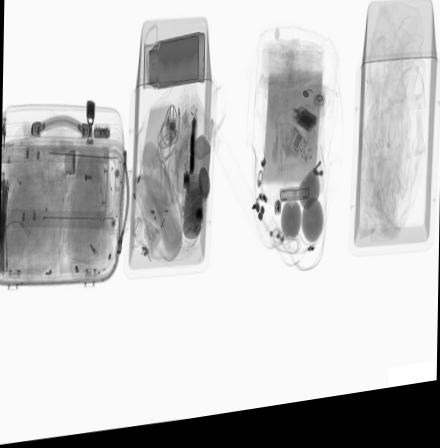Lighter: (180, 182, 187, 235)
